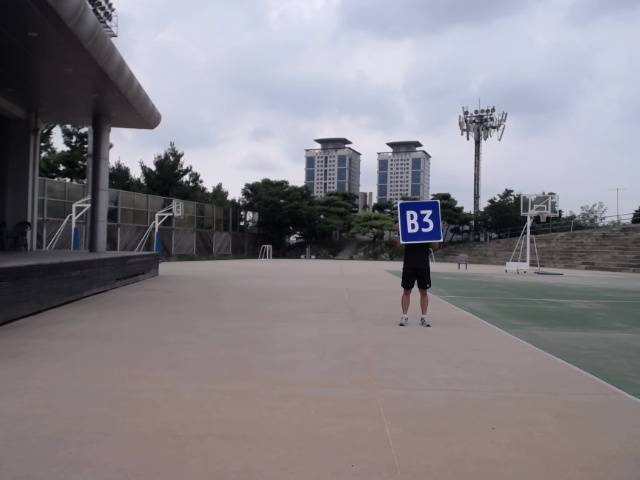delivery_b3: (398, 199, 444, 244)
